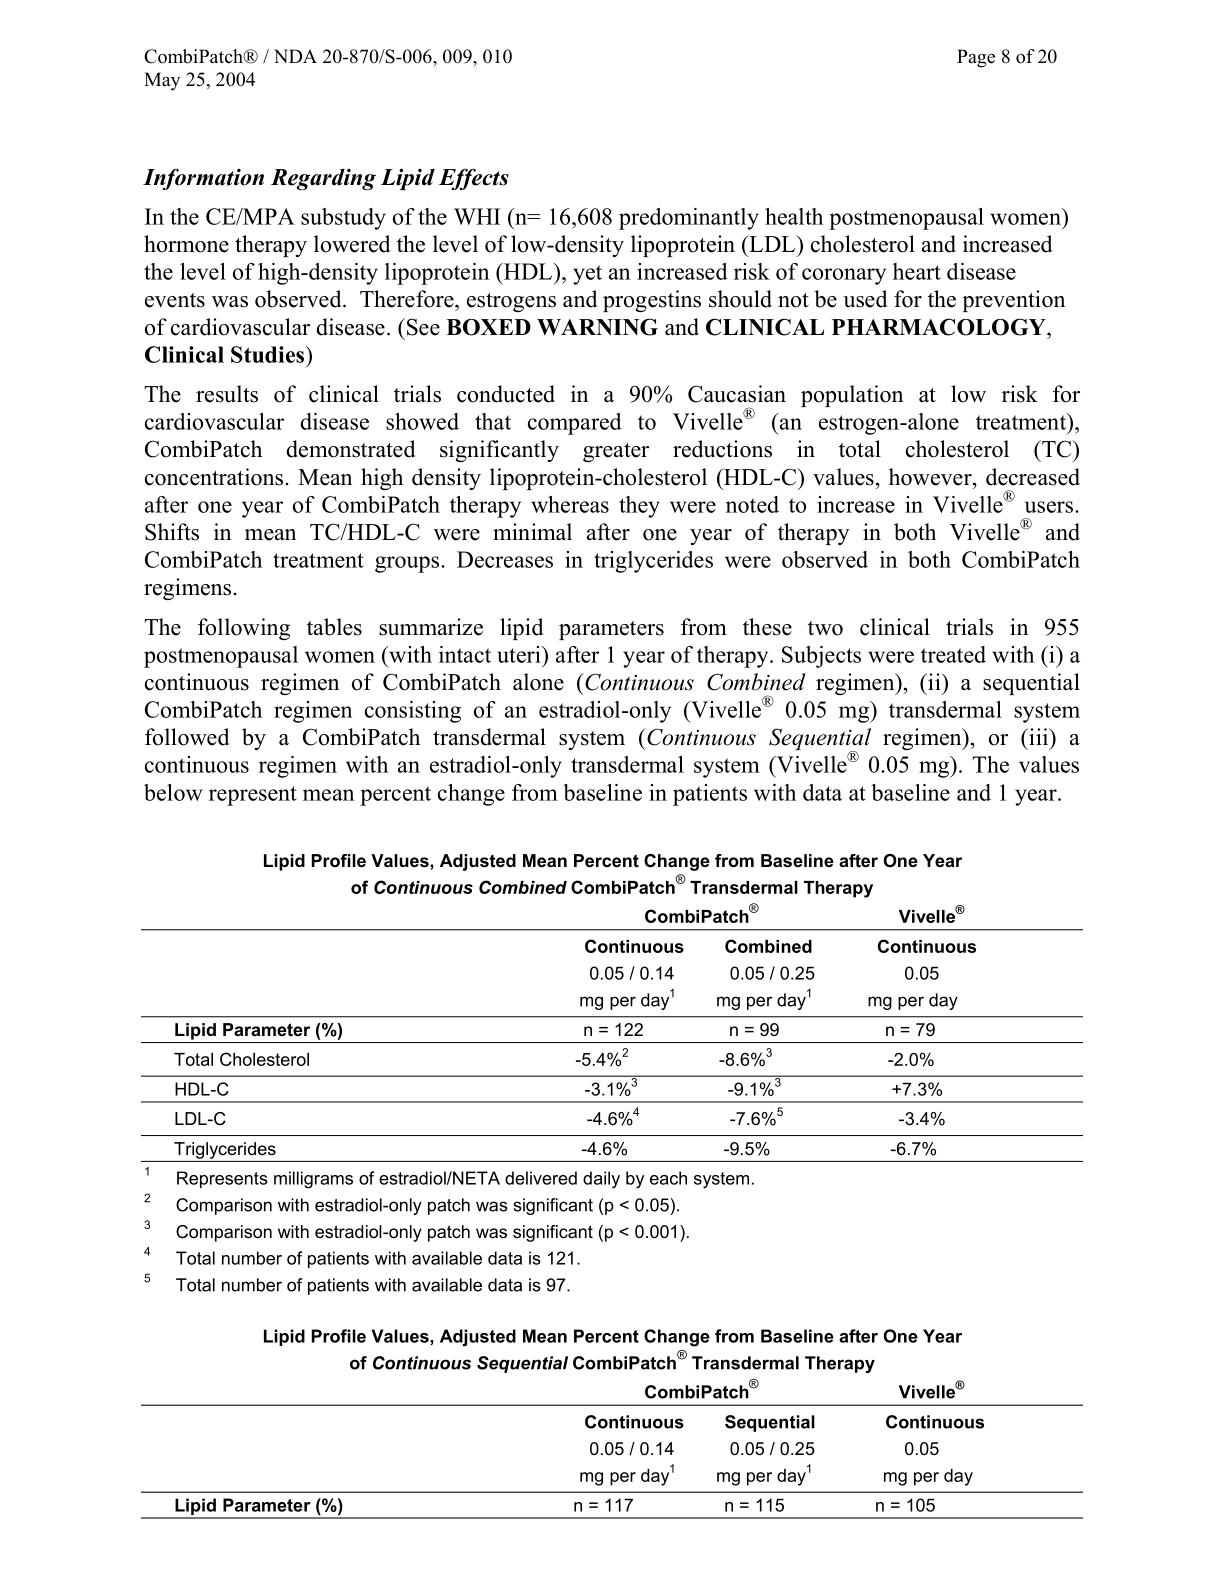partial_lined_merged_cells: (139, 906, 1083, 1164), (138, 1385, 1084, 1524)
